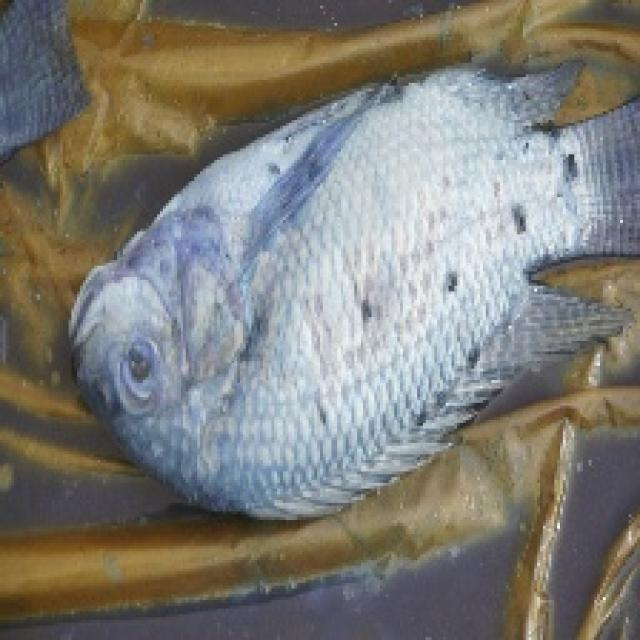Non-Fresh: (74, 120, 640, 534)
